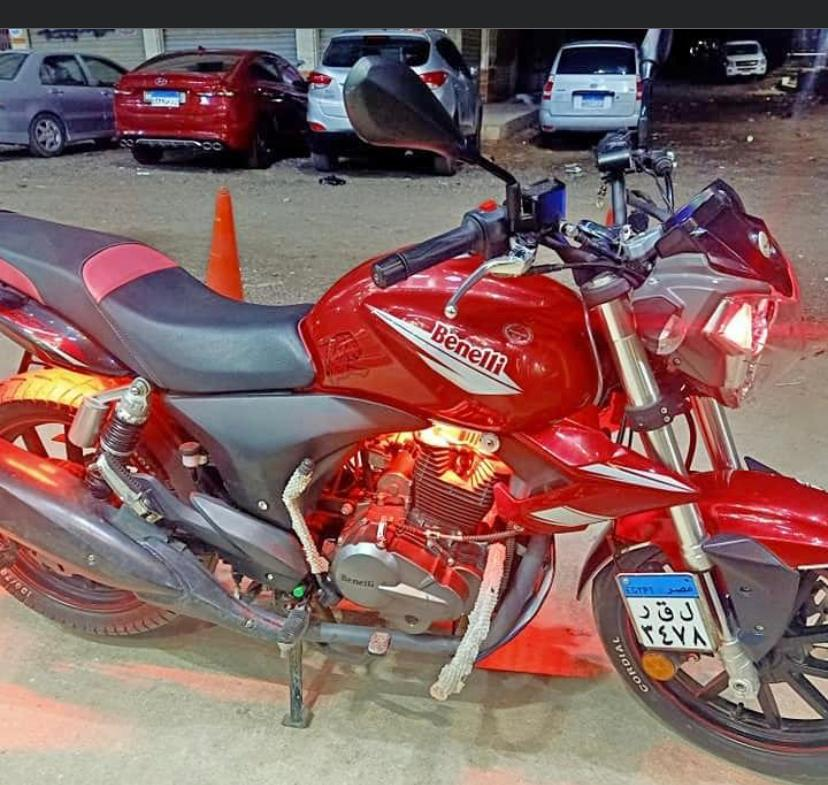License Plate: (615, 573, 719, 648)
